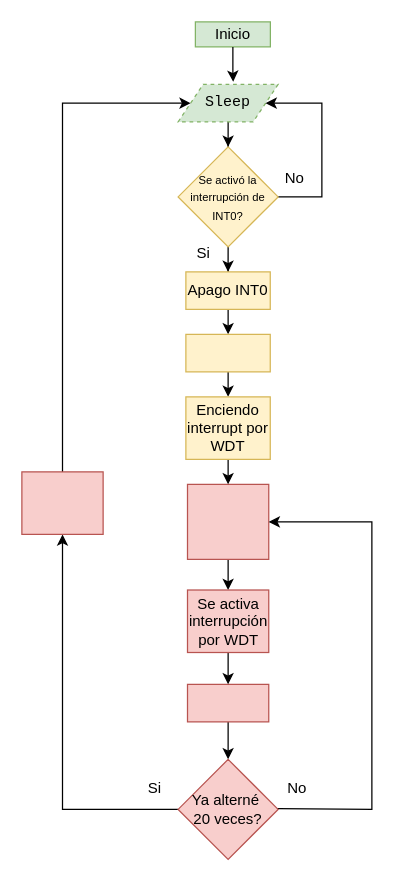
The diagram is 404 pixels wide and 881 high, and some of its shapes have lost their labels. Here are the shapes that lost their labels. From the top down, the box of each, then its label:
(185, 333, 270, 372): Prendo LED
(21, 471, 103, 534): Enciendo interrupt INT0
(186, 483, 269, 559): Reinicio WDT y espero 250ms
(186, 683, 269, 722): Alterno led
